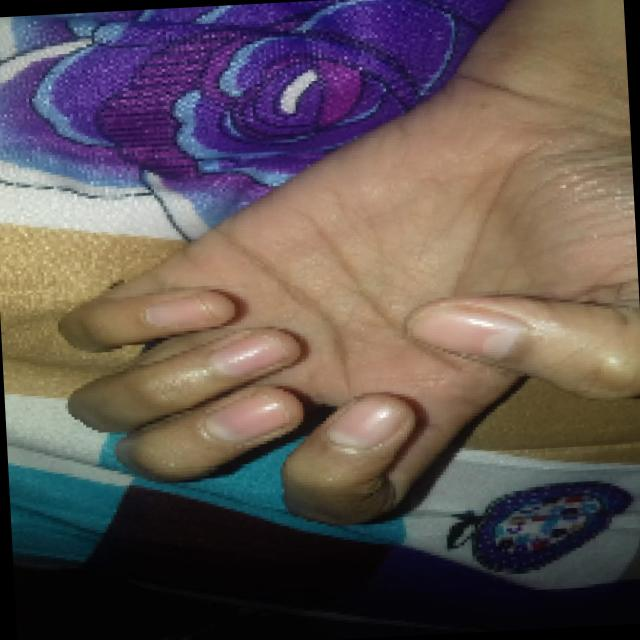Nail: (410, 304, 521, 358), (204, 394, 286, 442), (327, 396, 404, 446), (210, 334, 286, 377), (144, 298, 215, 325)
